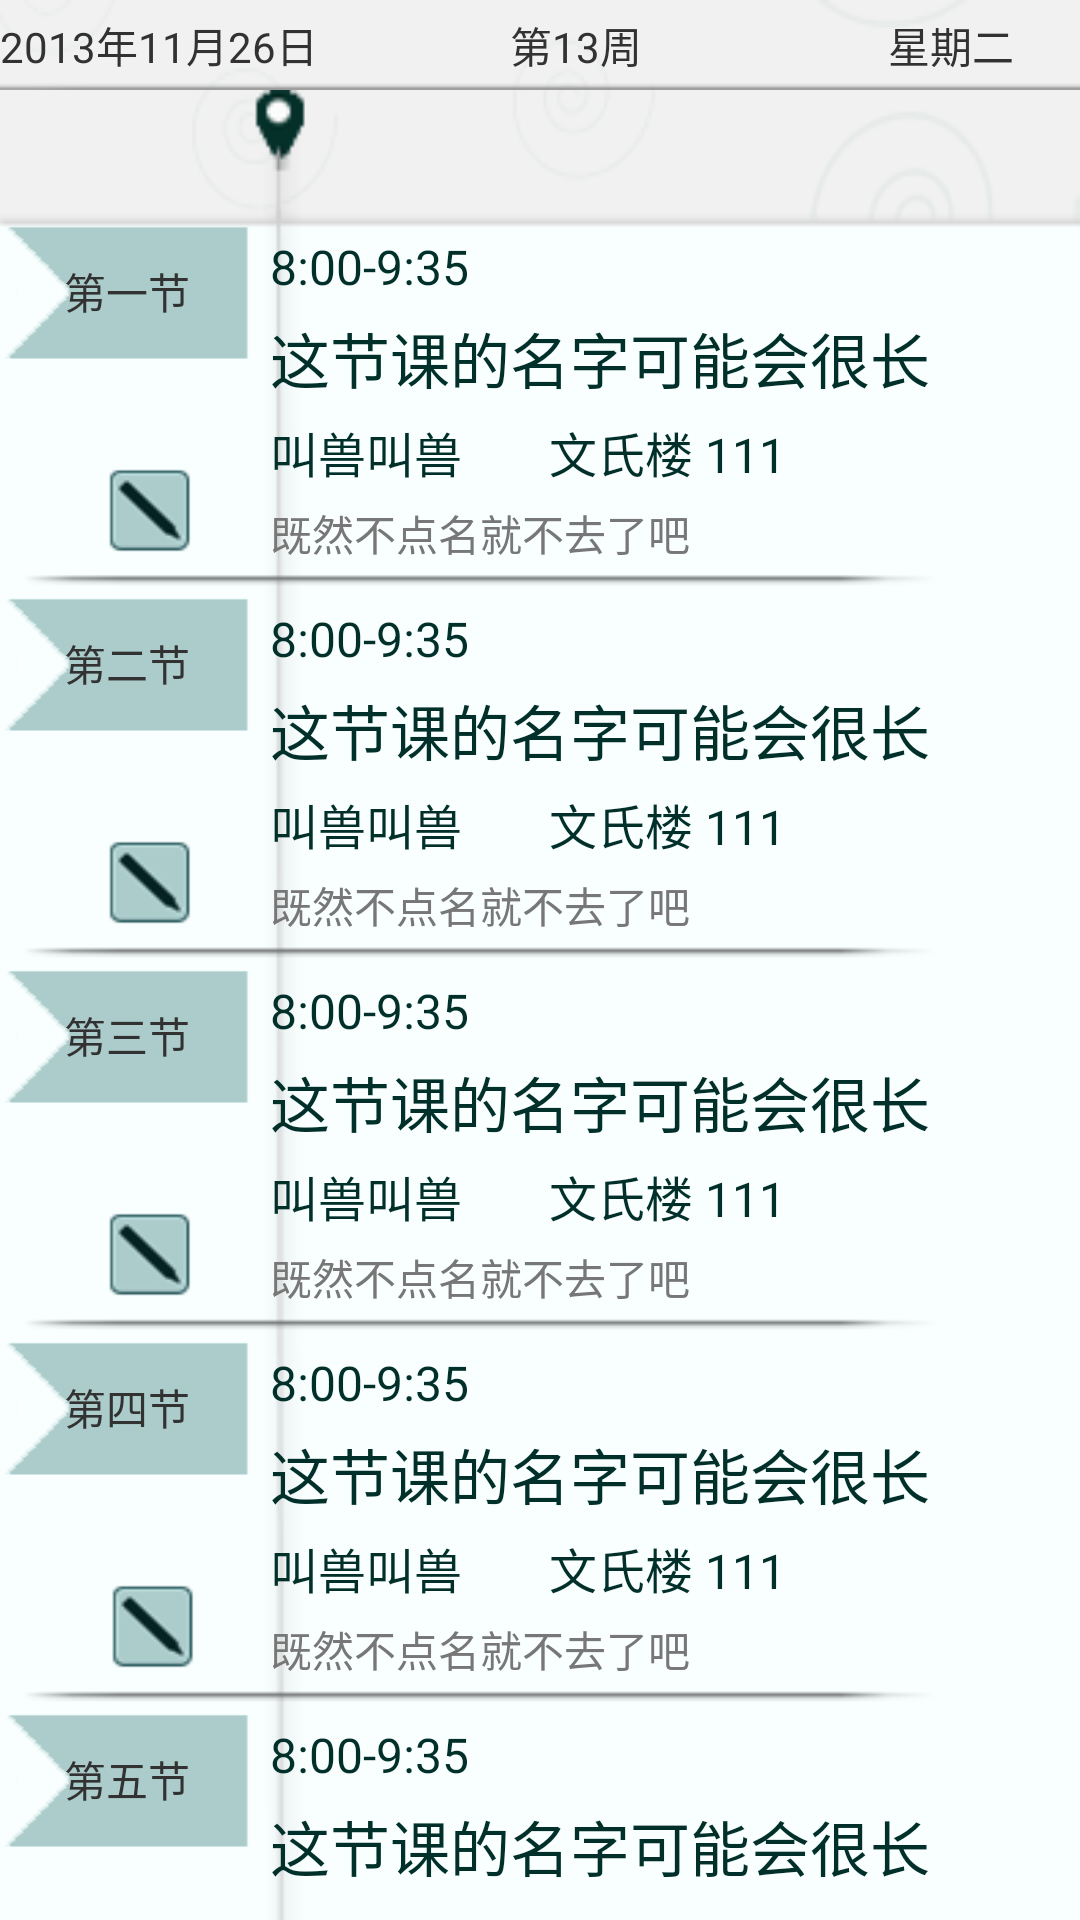

Where icons sit on this 1080*1920 app screen, as (x1, y1, x2, y2):
editbutton: (109, 470, 190, 551), (109, 842, 190, 923), (109, 1214, 190, 1295), (112, 1586, 193, 1667)
